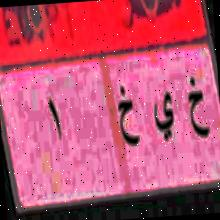1: (45, 91, 65, 152)
khaa: (184, 70, 211, 148), (115, 80, 142, 154)
yaa: (152, 87, 176, 150)
